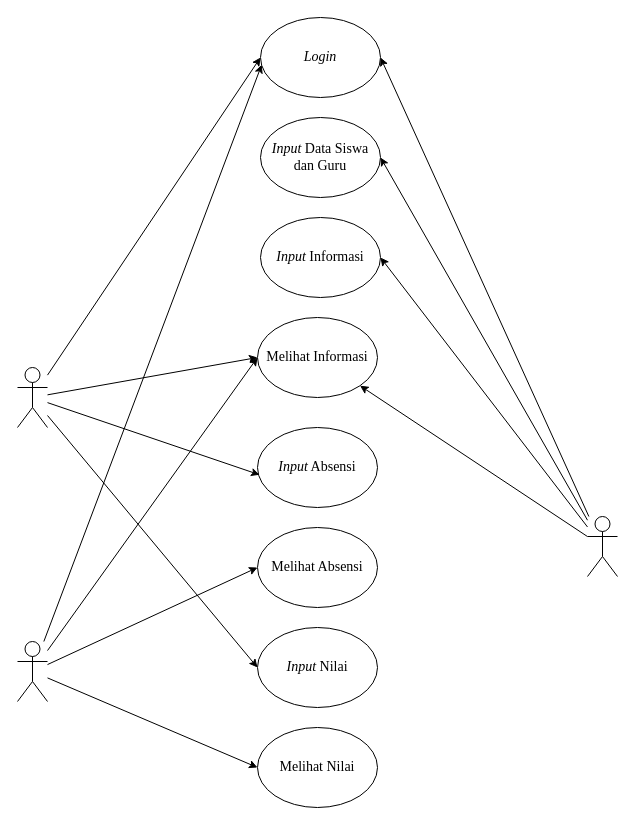
Some shapes in this 636 by 825 pixel diagram are drawn without their labels. Here are the shapes that lost their labels. From the top down, the centre of each, then its label:
the point at 32,397: Guru
the point at 602,546: Admin
the point at 32,671: Siswa
